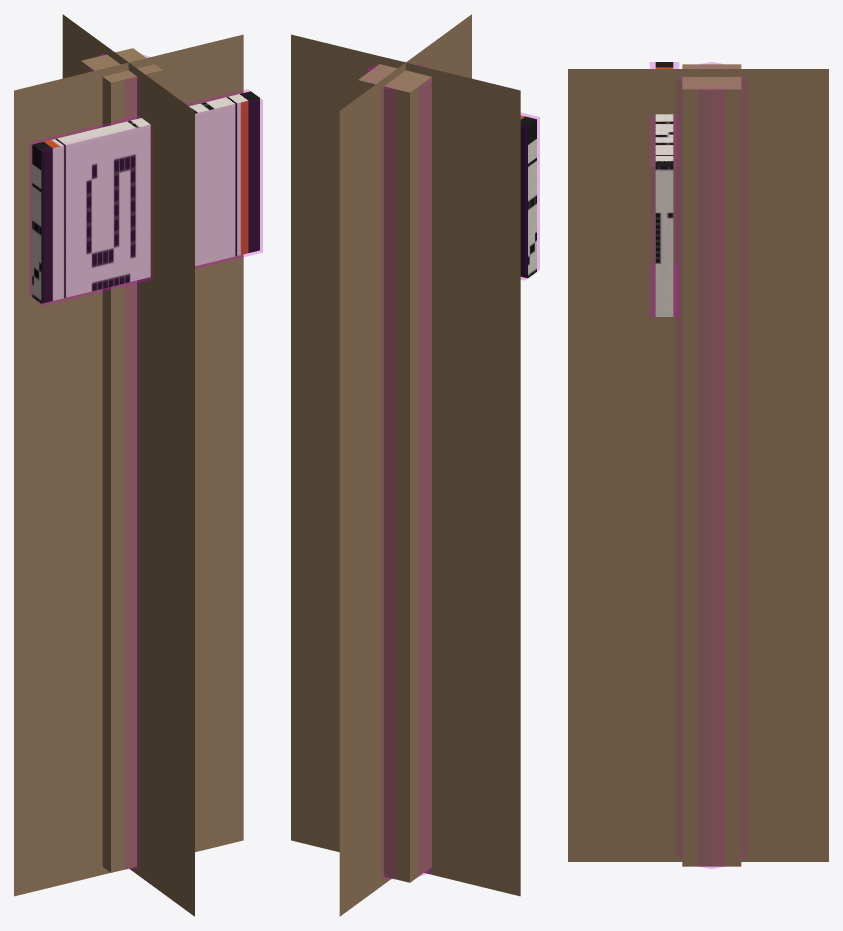
Rendered from milemarker_050.dae.
The picture shows the model from 3 angles, left to right: view 1: azimuth 30°, elevation 25°; view 2: azimuth 150°, elevation 25°; view 3: azimuth 270°, elevation 25°; orthographic projection.
Visible parts, largest first — view 1: milemarker_050_a50, milemarker_050_a800, Colmesh_sign-1, milemarker_050_a200, Colmesh_post-1; view 2: milemarker_050_a50, milemarker_050_a800, Colmesh_post-1, milemarker_050_a200, Colmesh_sign-1; view 3: milemarker_050_a50, milemarker_050_a800, Colmesh_post-1, Colmesh_sign-1.
Part boxes in pixels (x1=…): milemarker_050_a50: x1=14, y1=14, x2=243, y2=916; milemarker_050_a800: x1=32, y1=48, x2=259, y2=872; Colmesh_sign-1: x1=29, y1=89, x2=262, y2=305; milemarker_050_a200: x1=102, y1=56, x2=159, y2=866; Colmesh_post-1: x1=89, y1=53, x2=148, y2=869; milemarker_050_a50: x1=291, y1=14, x2=520, y2=916; milemarker_050_a800: x1=358, y1=58, x2=536, y2=882; Colmesh_post-1: x1=366, y1=61, x2=431, y2=878; milemarker_050_a200: x1=379, y1=66, x2=431, y2=879; Colmesh_sign-1: x1=521, y1=113, x2=539, y2=280; milemarker_050_a50: x1=568, y1=69, x2=828, y2=861; milemarker_050_a800: x1=655, y1=62, x2=741, y2=866; Colmesh_post-1: x1=677, y1=62, x2=746, y2=868; Colmesh_sign-1: x1=650, y1=62, x2=678, y2=316.
Bounding box in the file's own units: 0.441 × 0.441 × 1.48.
3 materials, 1 textured.
